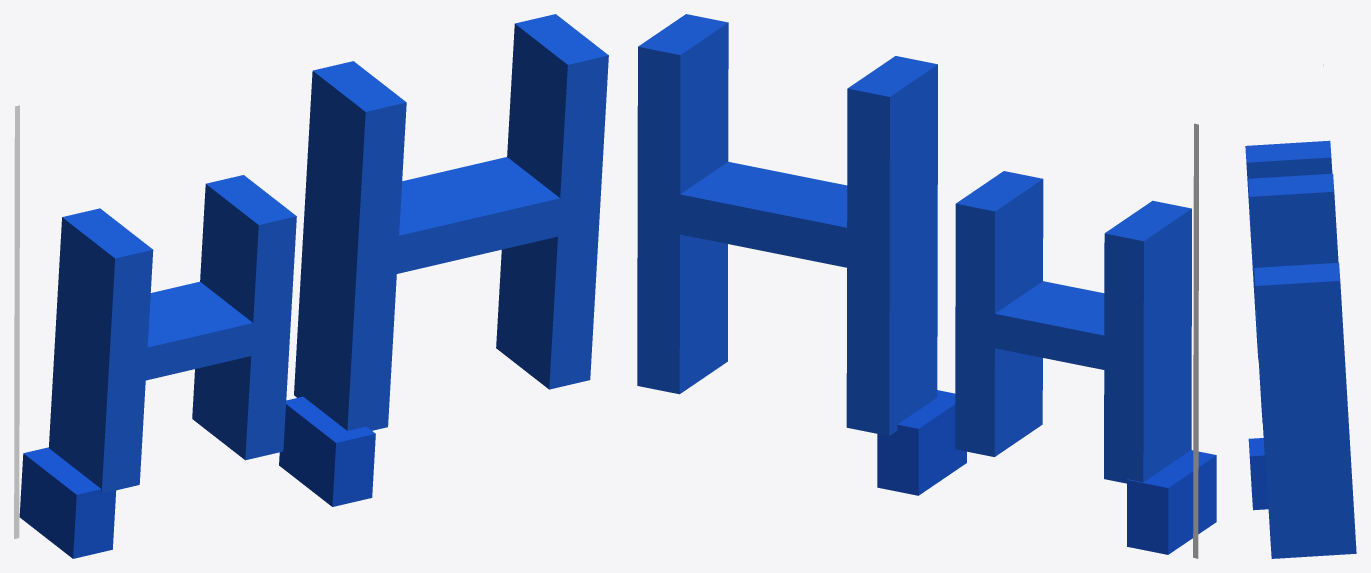
3 views of the same model, side by side, from view 1: azimuth 30°, elevation 25°; view 2: azimuth 150°, elevation 25°; view 3: azimuth 270°, elevation 25° (orthographic). The views are drawn at different scales.
Visible parts, largest first — view 1: Mesh_0.003, Куб.001, Куб, Плоскость; view 2: Mesh_0.003, Куб.001, Куб, Плоскость; view 3: Mesh_0.003, Куб.
Part boxes in pixels (x1=…): Mesh_0.003: x1=49, y1=14, x2=608, y2=493; Куб.001: x1=19, y1=447, x2=116, y2=558; Куб: x1=279, y1=396, x2=375, y2=506; Плоскость: x1=14, y1=105, x2=19, y2=539; Mesh_0.003: x1=637, y1=14, x2=1191, y2=483; Куб.001: x1=1127, y1=450, x2=1216, y2=554; Куб: x1=877, y1=390, x2=966, y2=495; Плоскость: x1=1193, y1=123, x2=1198, y2=558; Mesh_0.003: x1=1245, y1=140, x2=1356, y2=558; Куб: x1=1248, y1=438, x2=1268, y2=510.
Bounding box in the file's own units: 12.54 × 9.47 × 2.6.
